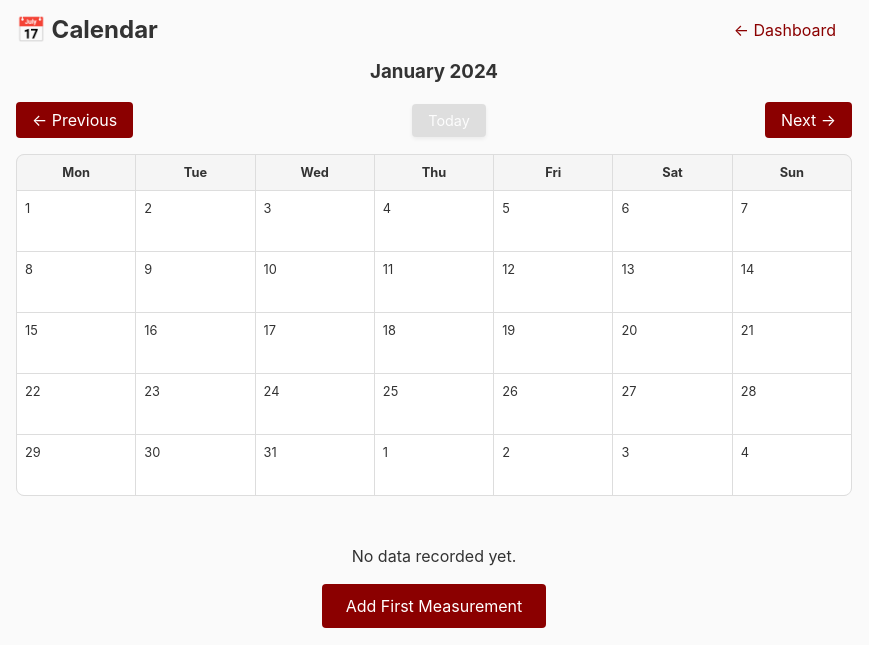
Scenario: Calendar › Edge Cases › handles month transitions correctly
Expected: the heading "January 2024" is shown, [370,58,498,86]
# Navigate to previous month (December 2023)
Click the button "← Previous". click: click(75, 120)
box: [16,102,133,138]
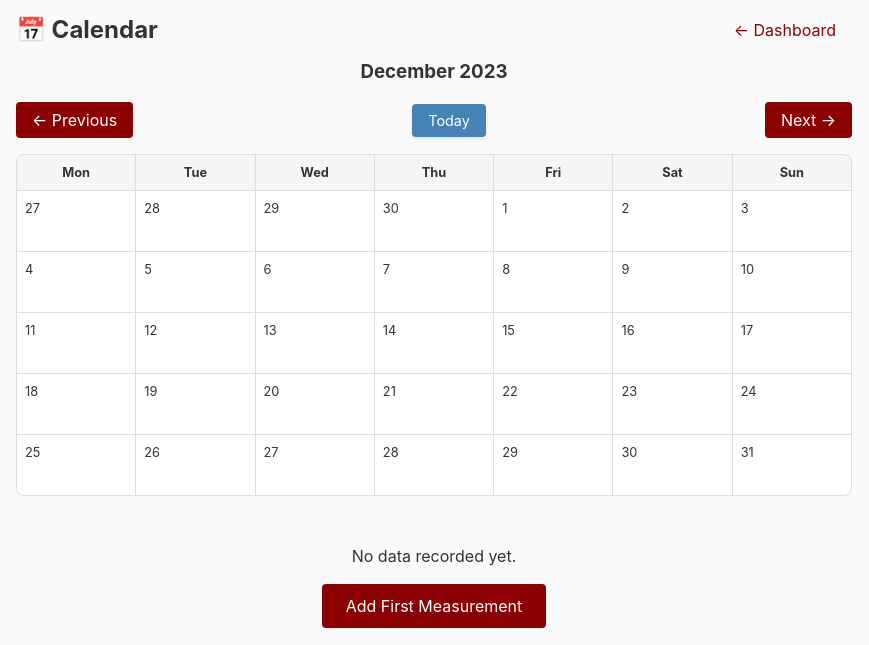
Expected: the heading "December 2023" is shown, [360,58,508,86]
# Navigate to next month twice (February 2024)
Click the button "Next →". click: click(808, 120)
box: [765,102,852,138]
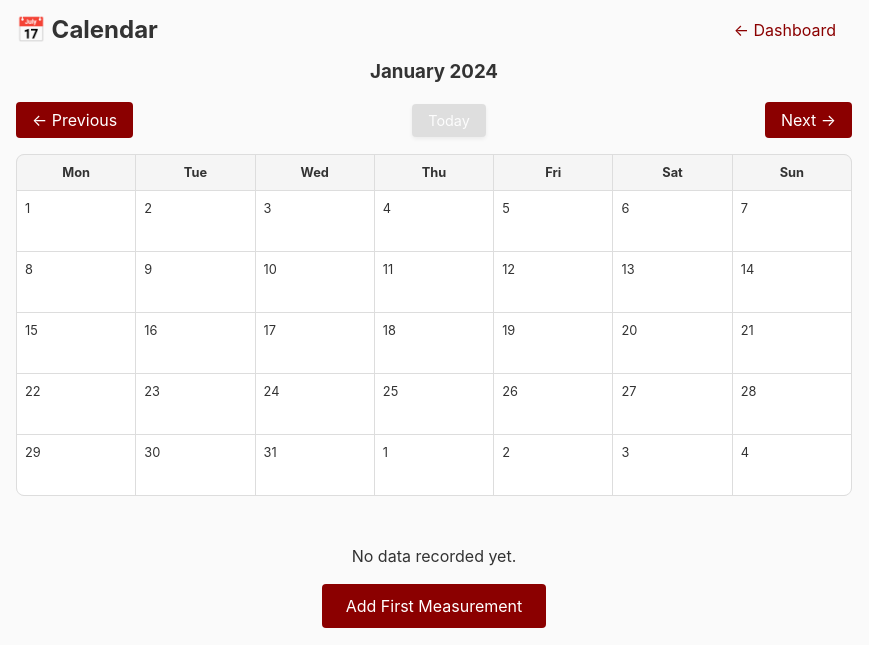
Click the button "Next →". click: click(808, 120)
box: [765,102,852,138]
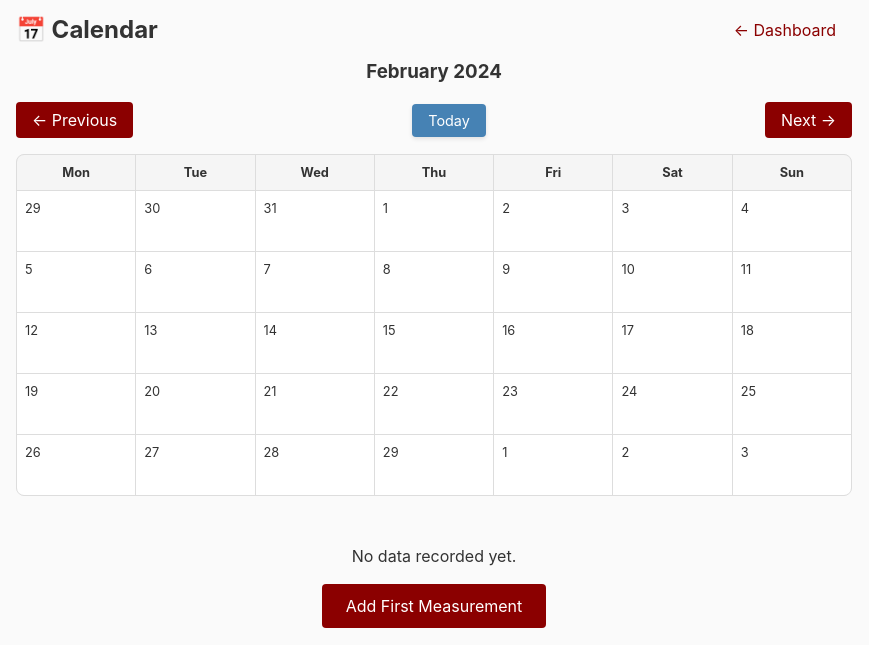
Expected: the heading "February 2024" is shown, [366,58,502,86]
